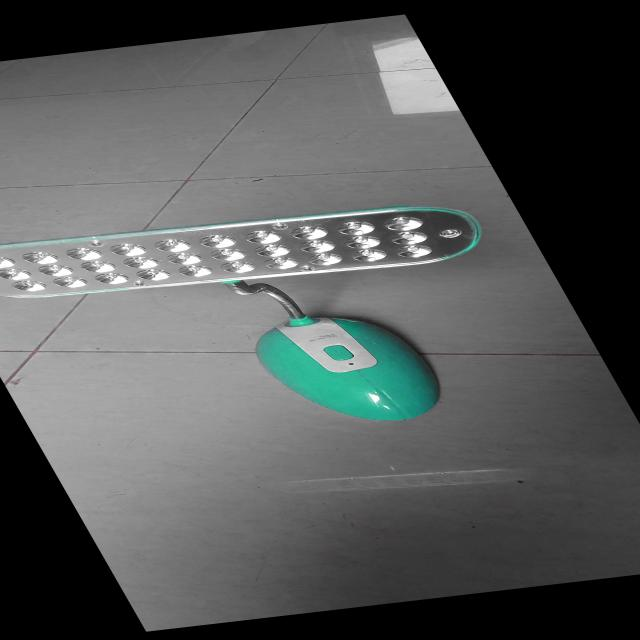Lantern: (0, 178, 597, 470)
